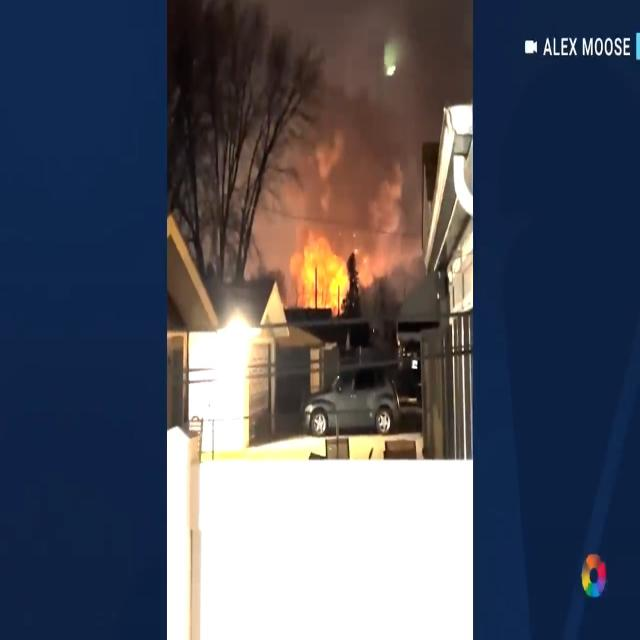fire: (291, 230, 350, 310), (580, 553, 604, 604)
